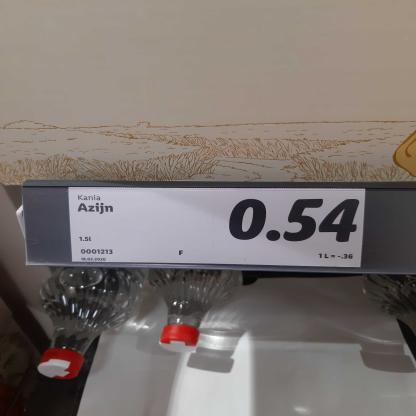prtg: (70, 188, 366, 268)
